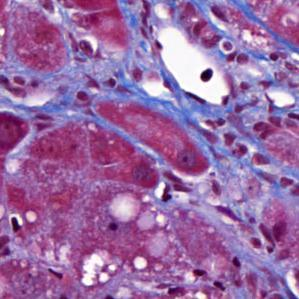inflammation: (152, 165, 192, 205), (66, 28, 101, 58), (4, 211, 29, 234)
